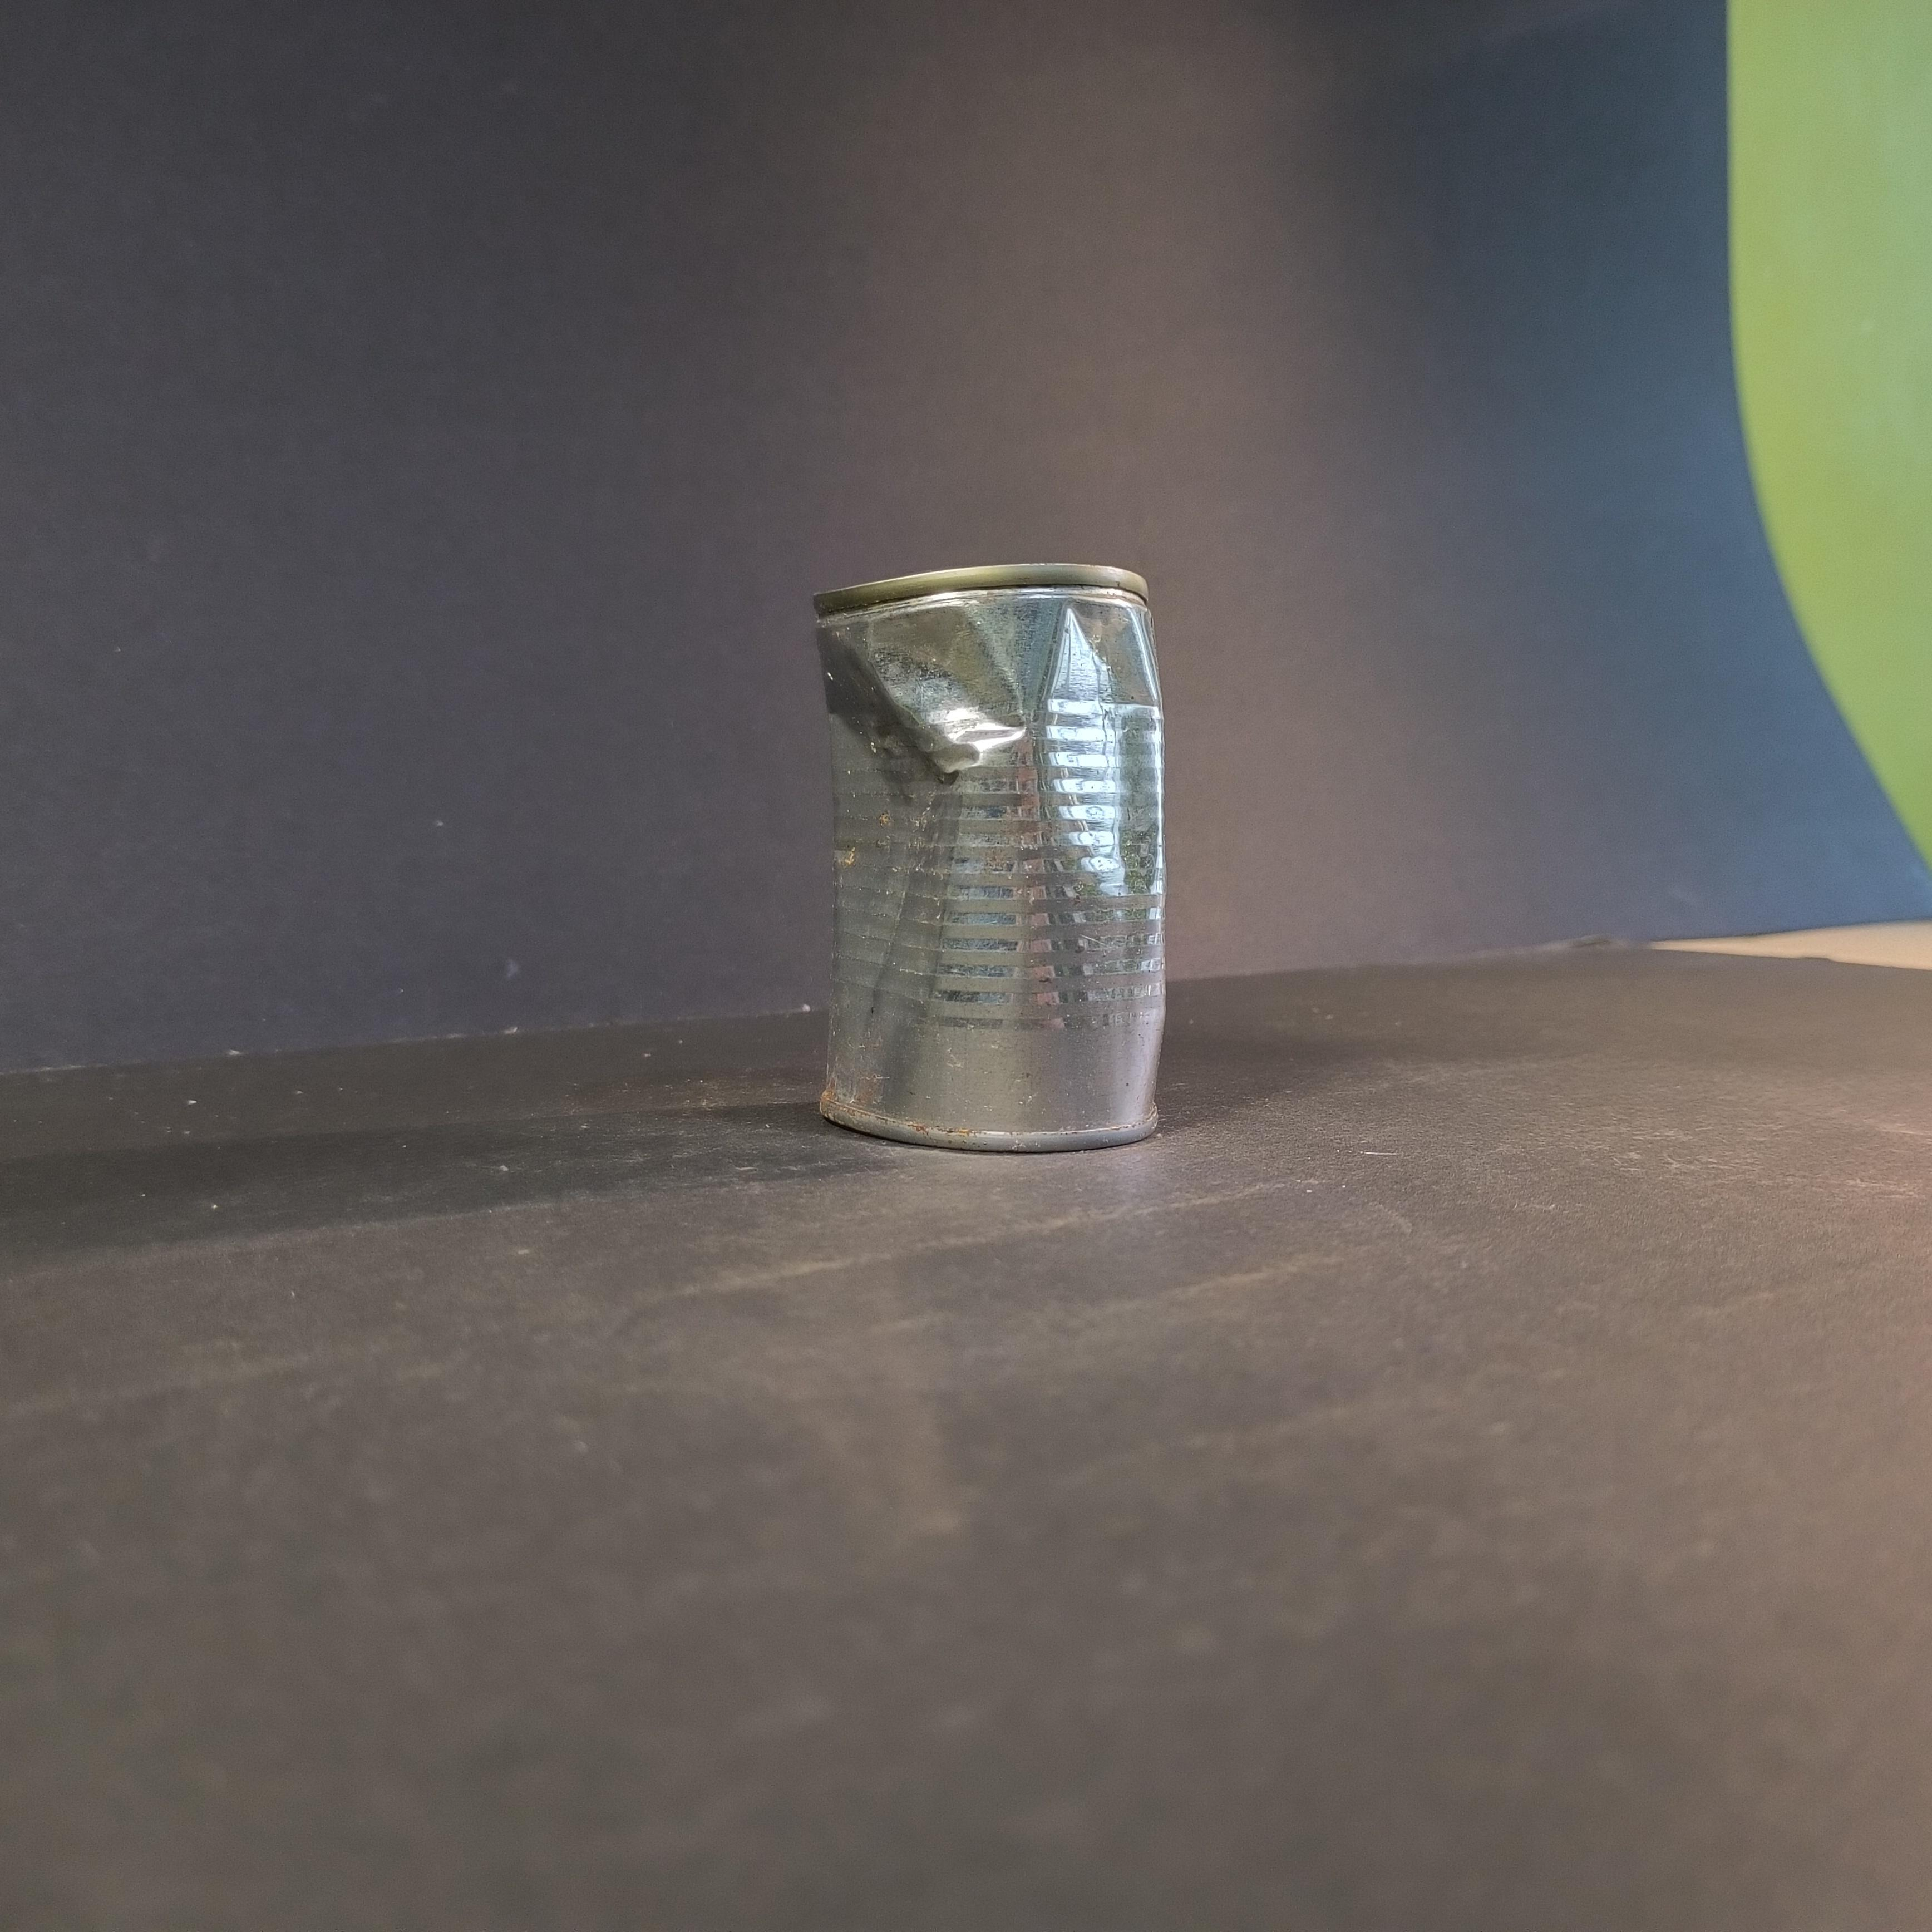Dented: (773, 524, 1210, 1185)
